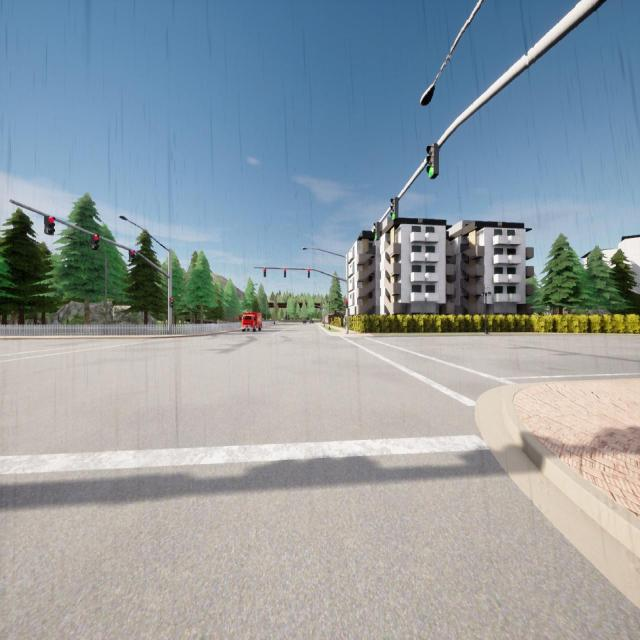Vehicle: (240, 312, 262, 332), (309, 319, 314, 324), (302, 320, 306, 324)
traffic_light: (426, 143, 439, 179), (44, 215, 56, 235), (391, 197, 398, 220), (91, 234, 100, 250), (373, 222, 380, 240), (129, 250, 135, 262), (170, 298, 173, 308), (263, 268, 266, 277), (308, 268, 310, 278), (346, 299, 348, 308), (284, 268, 286, 277)
